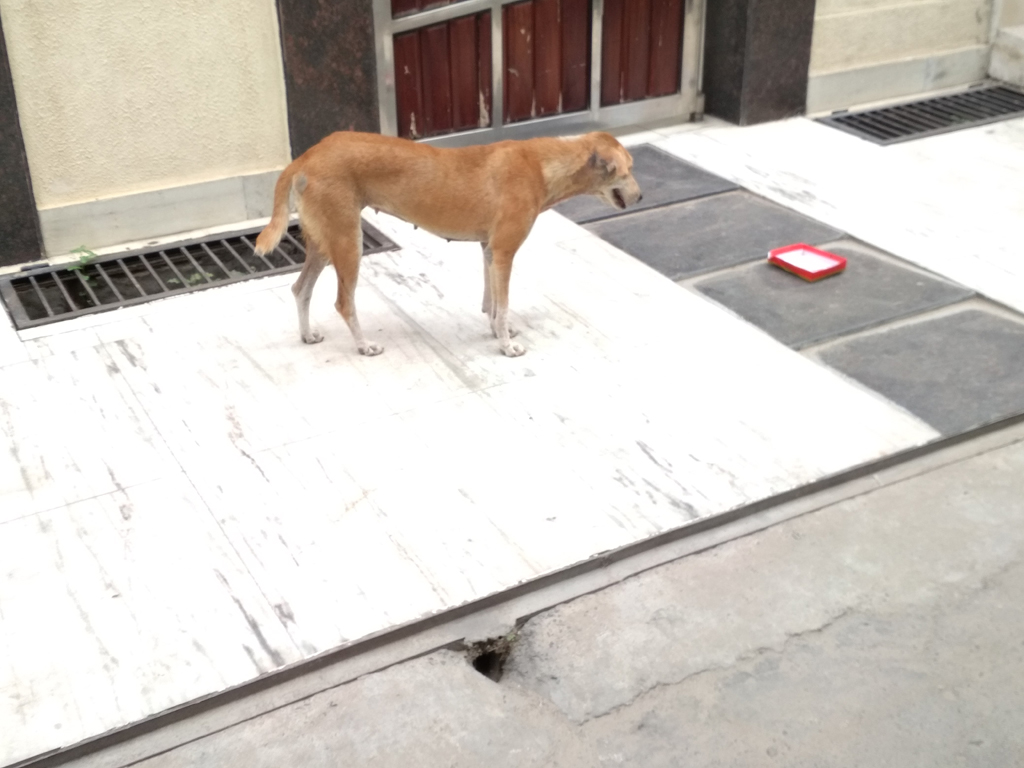dog: (254, 130, 643, 358)
